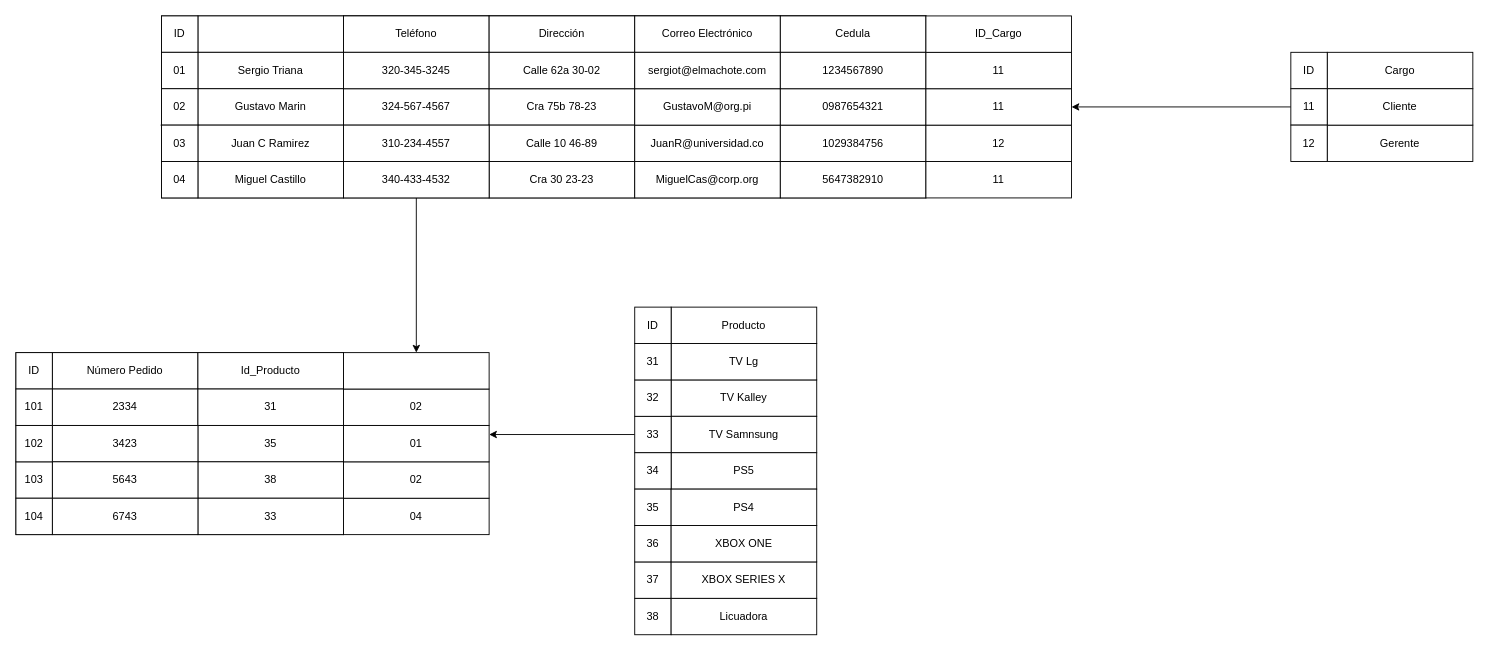
This 1489x651 diagram has some shape labels left out. The shapes that lost their labels are listed below. From the top down, each one's box as (x1, y1, x2, y2) in pixels, then its label:
(197, 15, 344, 52): Nombre Usuario
(343, 352, 489, 389): id_Usuario
